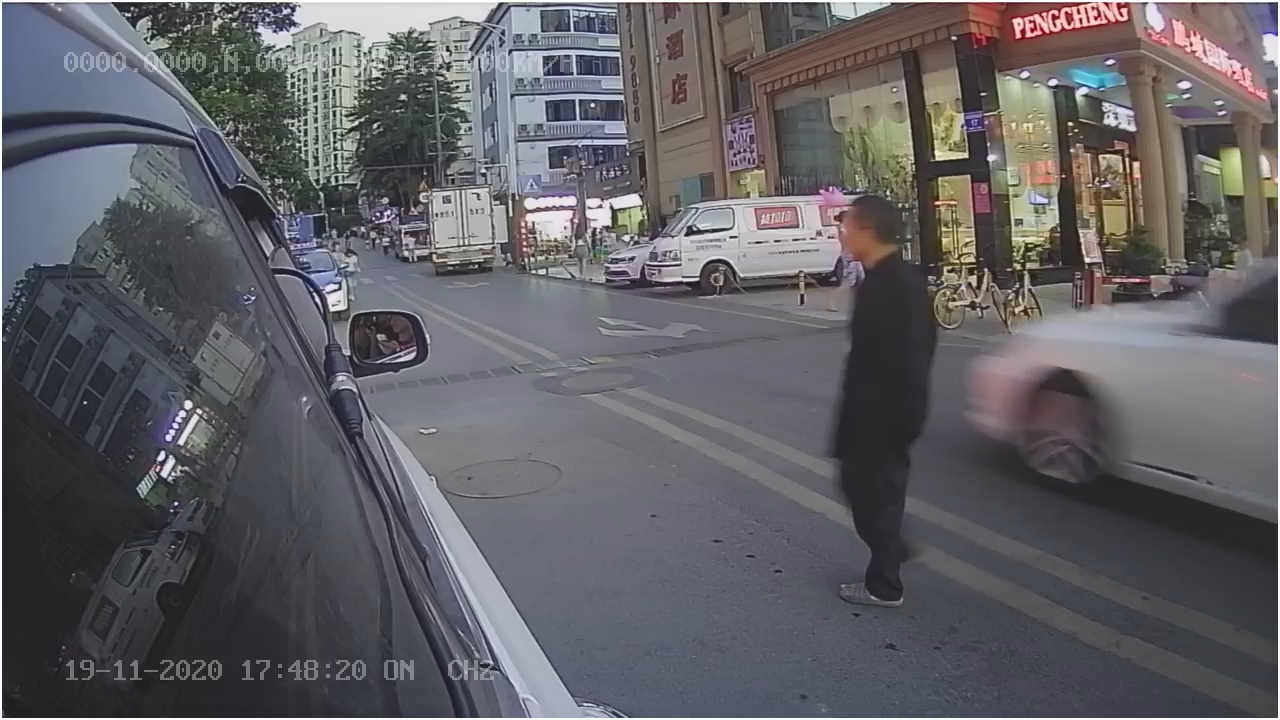person: (821, 197, 939, 615)
